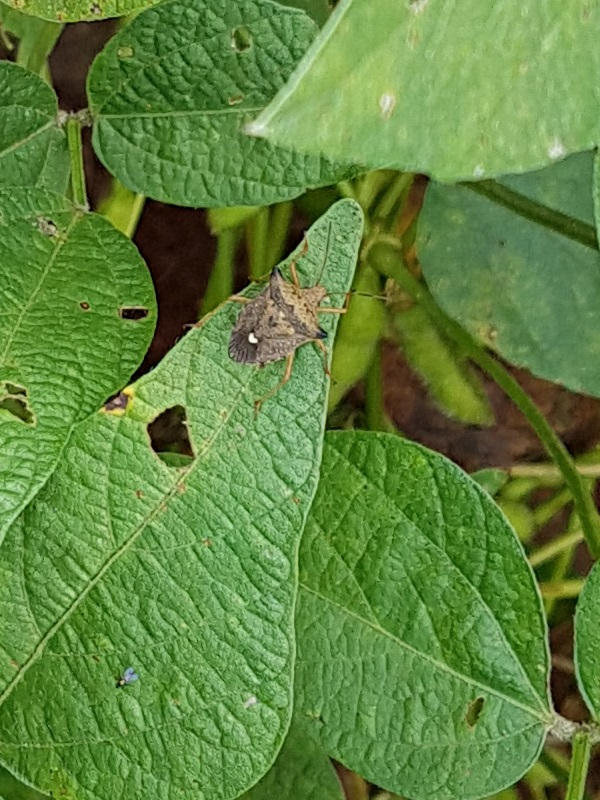Euschistus_heros_adulto: (194, 230, 388, 391)
